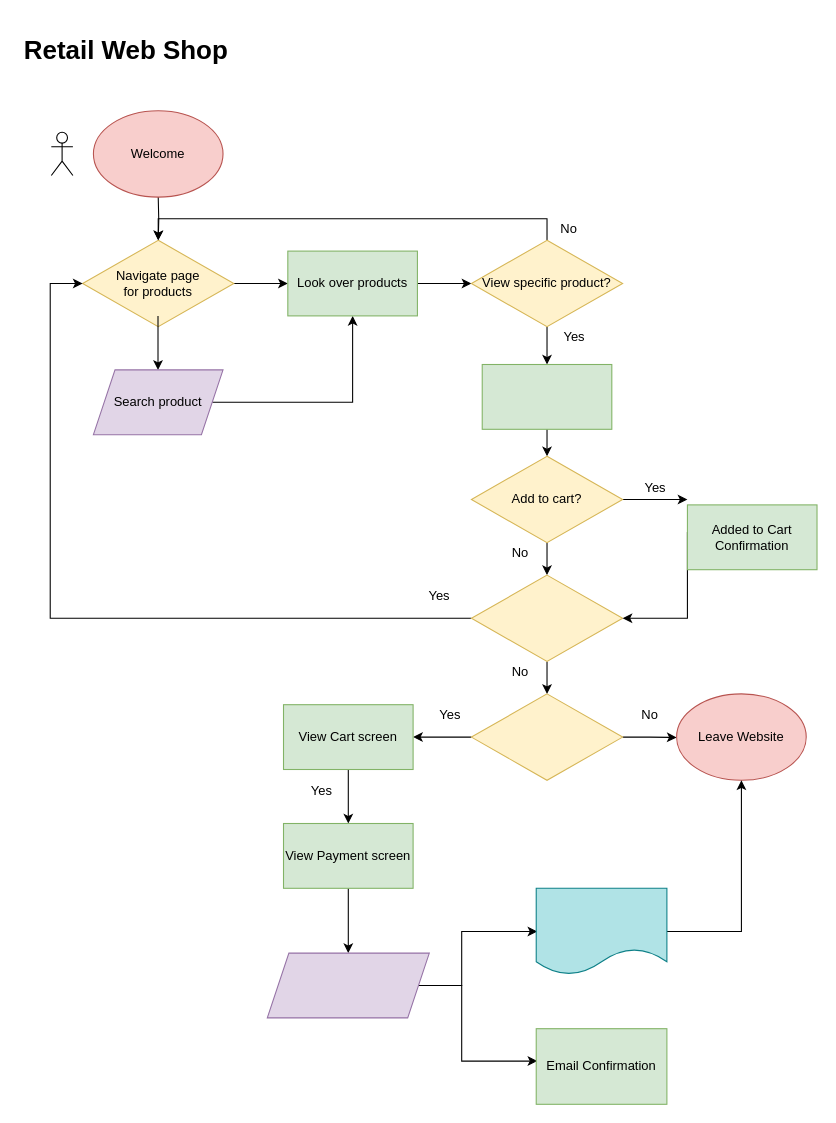
Some shapes in this 836 by 1123 pixel diagram are drawn without their labels. Each missing label, with the centre of its shape:
"Checkout?" goes at point 546,736.
"Continue shopping?" goes at point 546,618.
"Open product's webpage" goes at point 546,396.
"Order Confirmation Screen" goes at point 601,931.
"Payment Information" goes at point 347,985.
"Shopoholic" goes at point 61,153.
